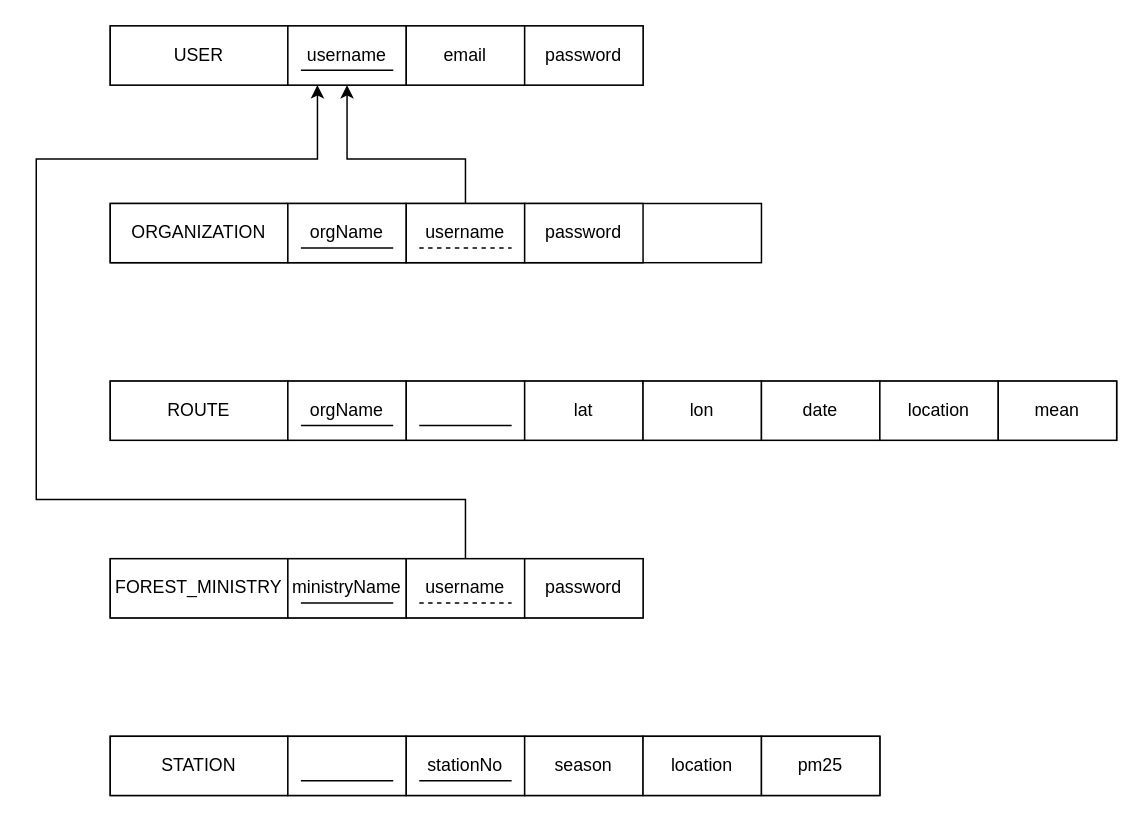
The diagram is 1143 pixels wide and 821 high, and some of its shapes have lost their labels. The centre of each missing label's shape, as x and y in pixels:
"carID" goes at pixel 465 410.
"stationOwner" goes at pixel 346 765.
